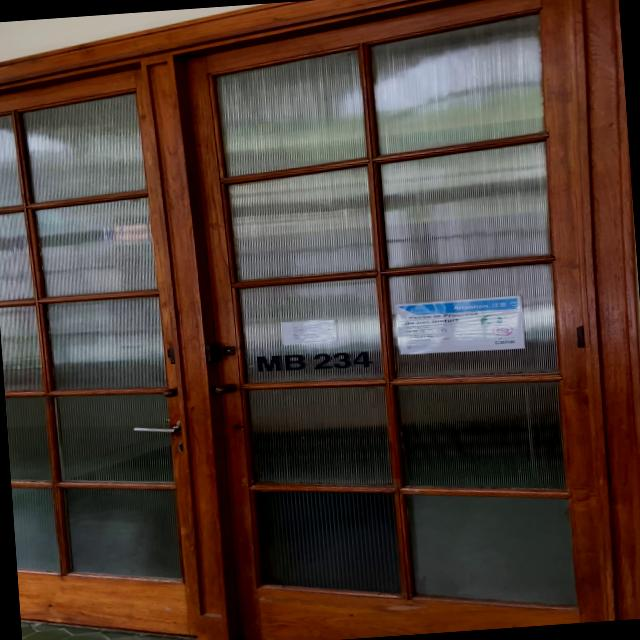room234Window: (250, 342, 378, 378)
